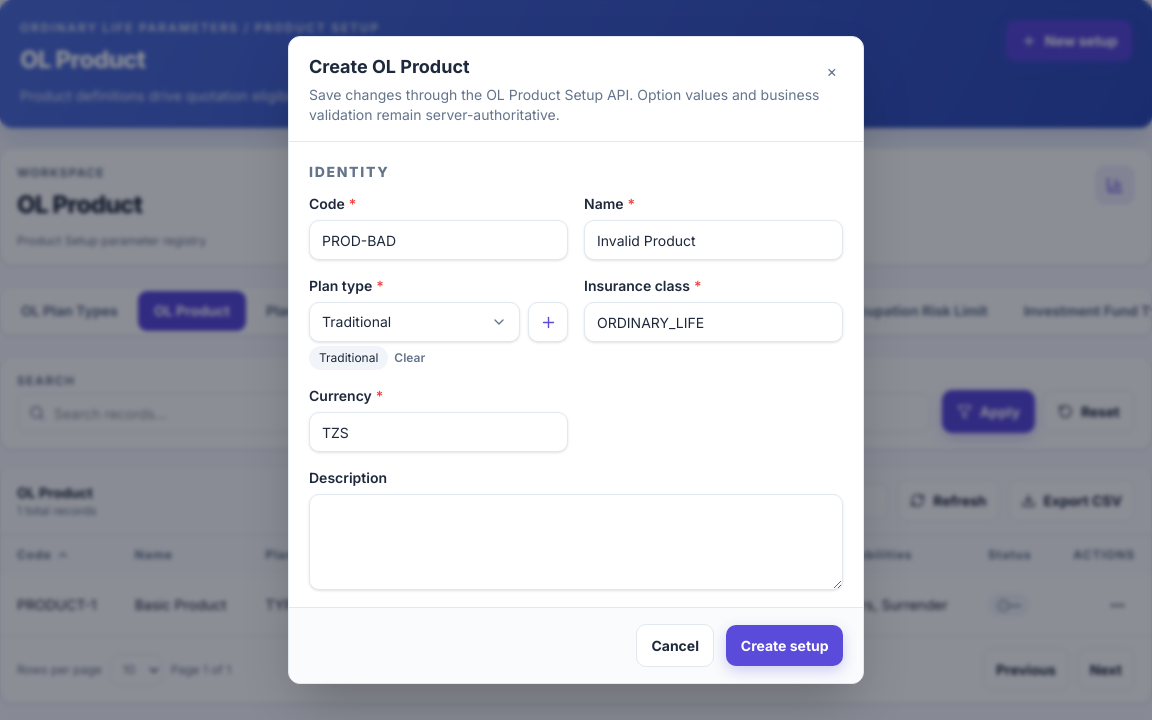
Test case: OLProductSetup › shows inline range validation and blocks an invalid product save
Earlier steps of the test are not shown.
What coordinates should you click on to do the following:
click the button "Create setup"
I would click on:
 (785, 646)
Its box is [726, 625, 843, 666].
(page scrolled)
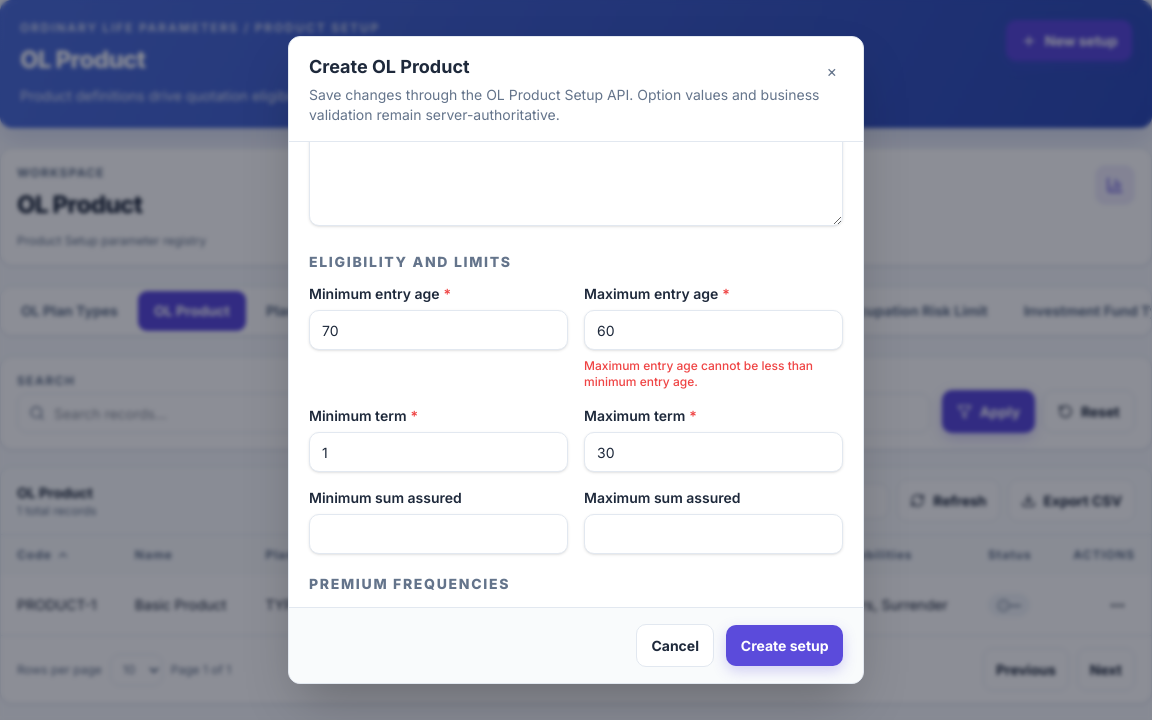
Result: the text "Maximum entry age cannot be less than minimum entry age." is shown at [584, 358, 843, 390]
